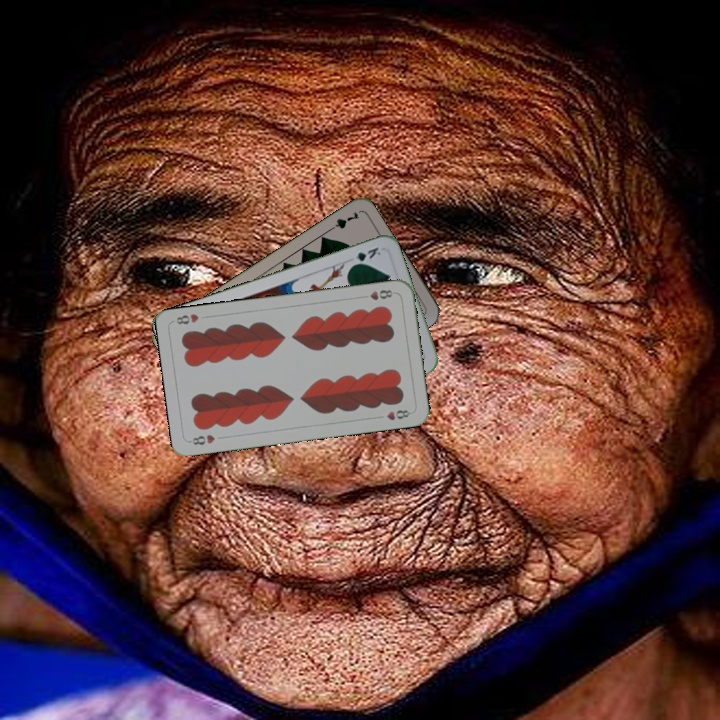G7: (323, 207, 362, 235)
GK: (347, 243, 383, 269)
H8: (357, 286, 395, 303), (186, 430, 218, 447)
